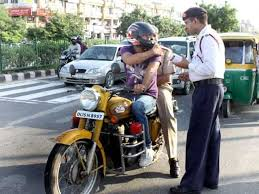helmet: (124, 26, 161, 58)
